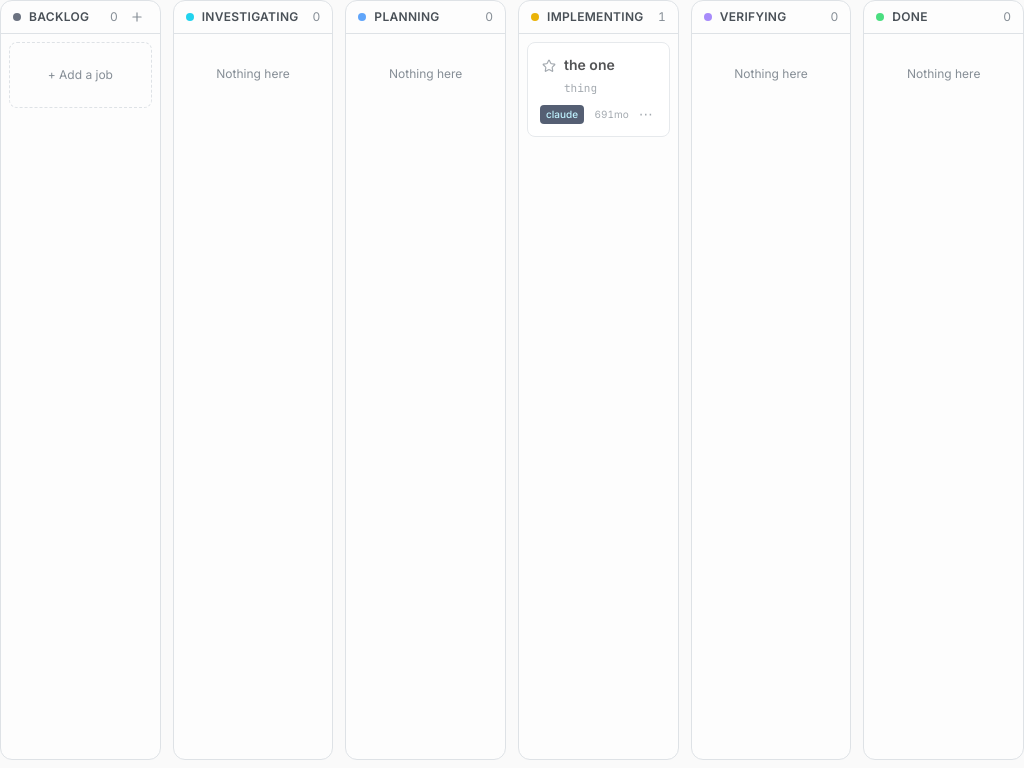
it: Board renders › marks a card as working on from the star and draws the rail
Click the button named "Mark the one as working on" at [549, 66], box [540, 57, 558, 75]
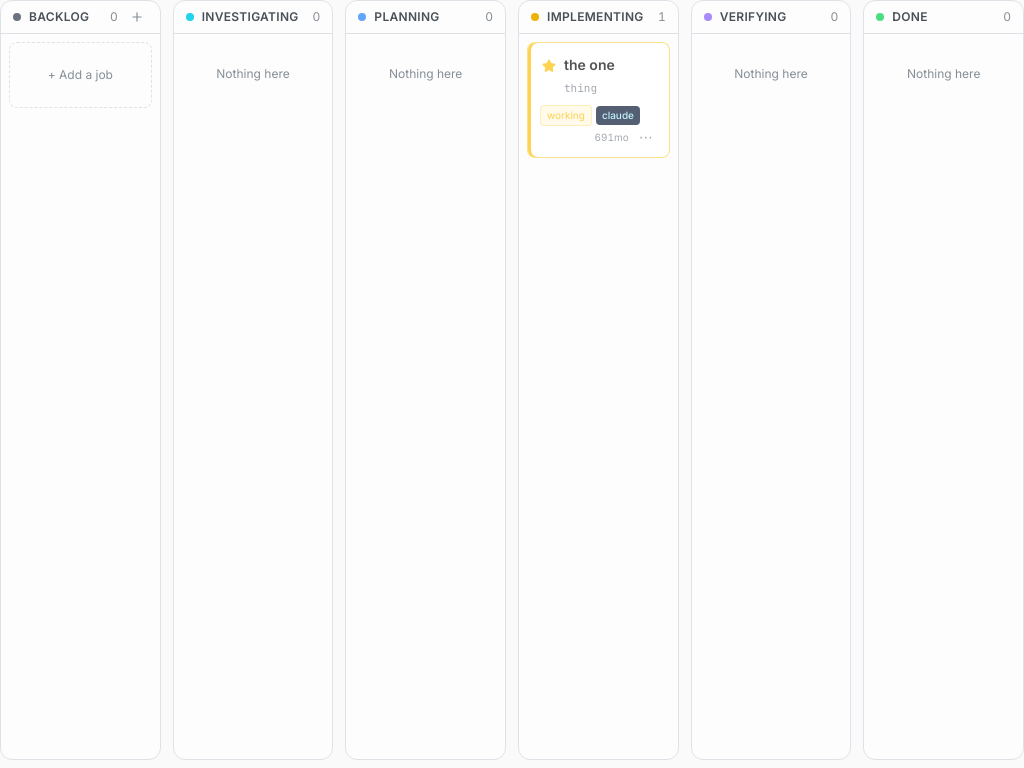
expect the text "working" is shown: met, box [540, 105, 592, 126]
expect the button named "Stop working on the one" is shown: met, box [540, 57, 558, 75]
